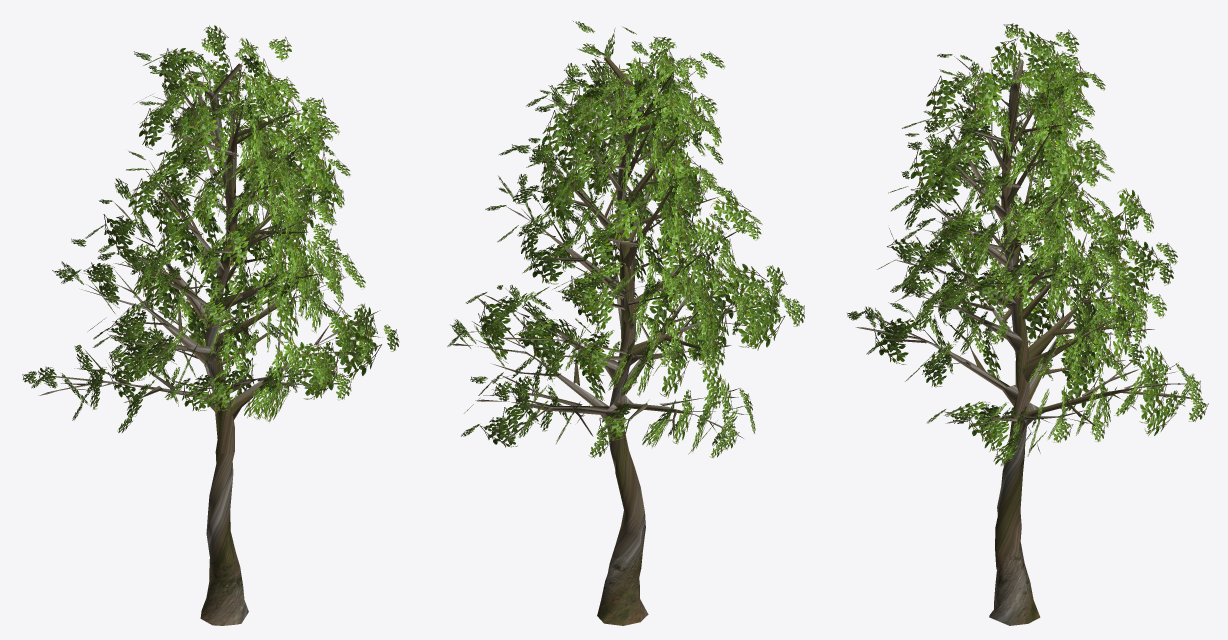
The model's file is tree.glb.
The picture shows the model from 3 angles, left to right: view 1: azimuth 30°, elevation 25°; view 2: azimuth 150°, elevation 25°; view 3: azimuth 270°, elevation 25°; orthographic projection.
Visible parts, largest first — view 1: leaves, bark; view 2: leaves, bark; view 3: leaves, bark.
Boxes of the visible parts, x1,y1,x2,y2 form: leaves: [22, 25, 399, 432]; bark: [38, 59, 382, 625]; leaves: [447, 21, 804, 458]; bark: [451, 53, 780, 625]; leaves: [847, 23, 1208, 465]; bark: [856, 40, 1194, 625].
Size of the model in its own units: 9.44 by 15.55 by 9.1.
Materials: 2 (2 with a texture image).
